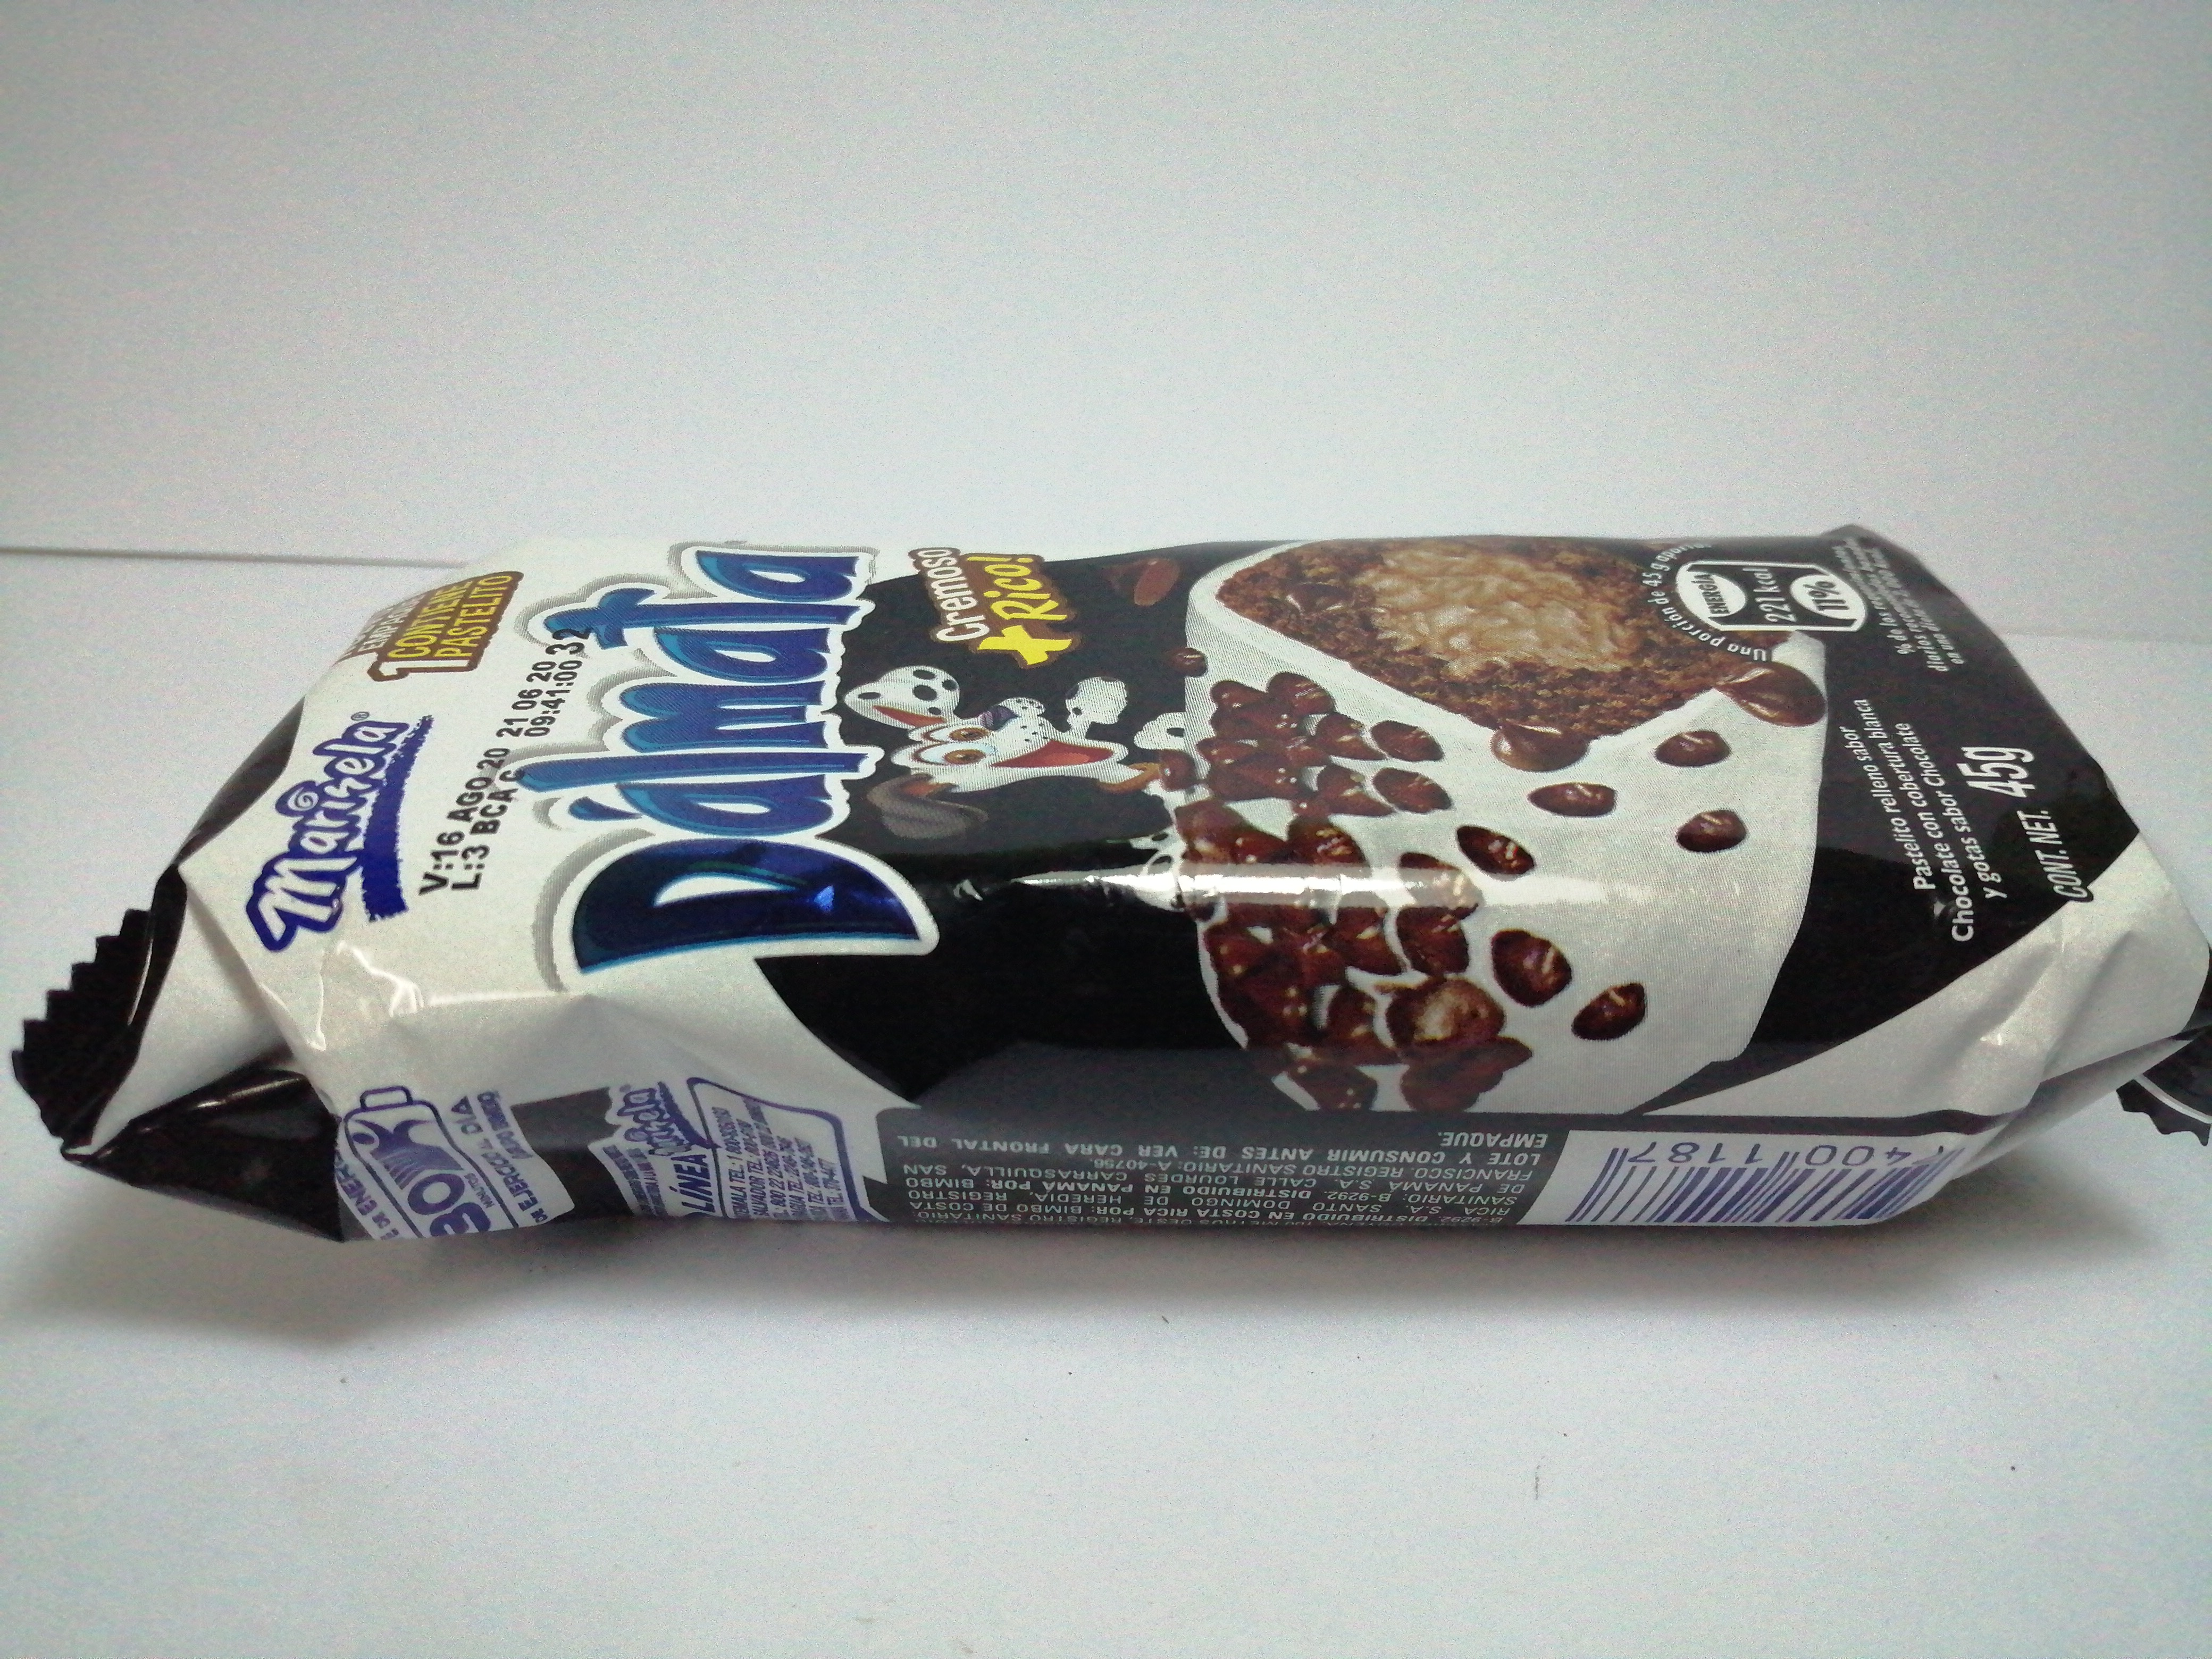dalmata: (5, 502, 2212, 1284)
